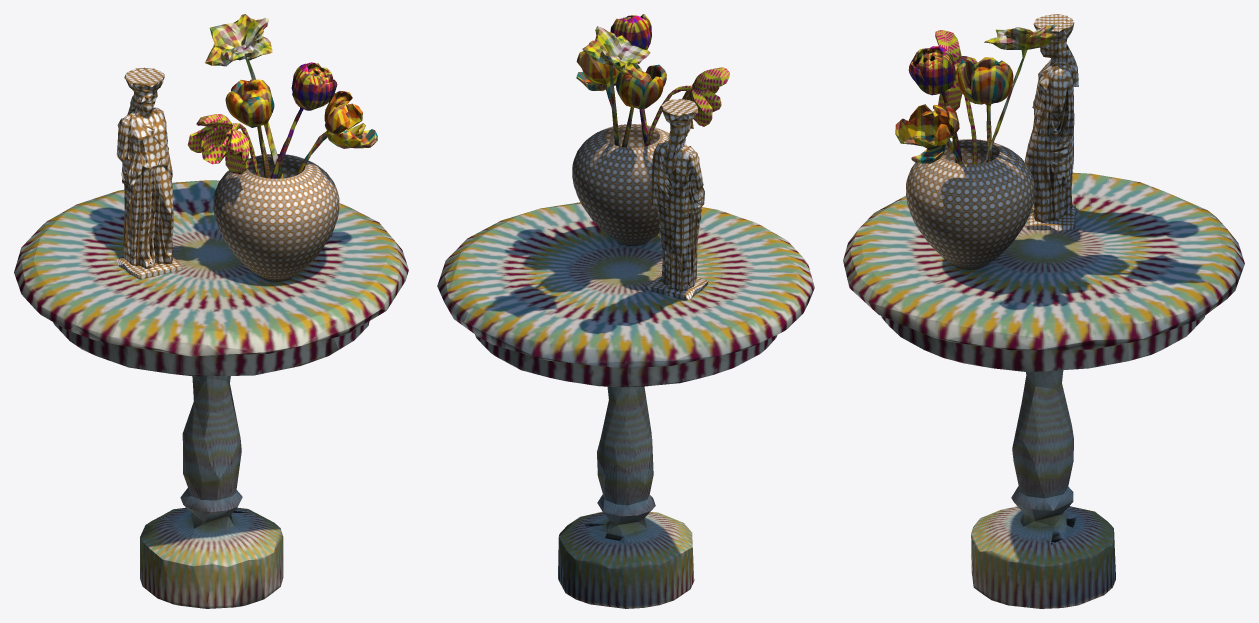
Rendered from Niio2StillLife.glb.
The picture shows the model from 3 angles, left to right: view 1: azimuth 30°, elevation 25°; view 2: azimuth 150°, elevation 25°; view 3: azimuth 270°, elevation 25°; orthographic projection. The views are drawn at different scales.
Visible parts, largest first — view 1: Niio2_roundTable_cleaned:mmGroup0, pSphere2, SIngleCaryatid_timeChange2, Niio2_Daff_Cleaned:mmGroup0, PolkDotFlower_cleaned:mmGroup0, pladTulip_cleaned:mmGroup0, Niio2_ShortTulip_cleaned2:mmGroup0, Niio2_tallPlaidTulip_Cleaned:mmGroup0; view 2: Niio2_roundTable_cleaned:mmGroup0, pSphere2, SIngleCaryatid_timeChange2, Niio2_Daff_Cleaned:mmGroup0, PolkDotFlower_cleaned:mmGroup0, Niio2_ShortTulip_cleaned2:mmGroup0, Niio2_tallPlaidTulip_Cleaned:mmGroup0, pladTulip_cleaned:mmGroup0; view 3: Niio2_roundTable_cleaned:mmGroup0, pSphere2, SIngleCaryatid_timeChange2, pladTulip_cleaned:mmGroup0, Niio2_ShortTulip_cleaned2:mmGroup0, Niio2_tallPlaidTulip_Cleaned:mmGroup0, Niio2_Daff_Cleaned:mmGroup0, PolkDotFlower_cleaned:mmGroup0.
Part boxes in pixels (<box>): Niio2_roundTable_cleaned:mmGroup0: <box>14,180,408,608</box>; pSphere2: <box>213,154,339,280</box>; SIngleCaryatid_timeChange2: <box>116,67,182,279</box>; Niio2_Daff_Cleaned:mmGroup0: <box>205,14,283,178</box>; PolkDotFlower_cleaned:mmGroup0: <box>187,114,259,176</box>; pladTulip_cleaned:mmGroup0: <box>296,91,377,175</box>; Niio2_ShortTulip_cleaned2:mmGroup0: <box>225,79,274,178</box>; Niio2_tallPlaidTulip_Cleaned:mmGroup0: <box>270,62,337,178</box>; Niio2_roundTable_cleaned:mmGroup0: <box>437,202,814,608</box>; pSphere2: <box>572,124,669,245</box>; SIngleCaryatid_timeChange2: <box>645,99,708,300</box>; Niio2_Daff_Cleaned:mmGroup0: <box>582,26,650,146</box>; PolkDotFlower_cleaned:mmGroup0: <box>644,67,729,146</box>; Niio2_ShortTulip_cleaned2:mmGroup0: <box>616,64,666,147</box>; Niio2_tallPlaidTulip_Cleaned:mmGroup0: <box>610,14,651,145</box>; pladTulip_cleaned:mmGroup0: <box>576,51,619,145</box>; Niio2_roundTable_cleaned:mmGroup0: <box>843,172,1244,608</box>; pSphere2: <box>906,139,1034,268</box>; SIngleCaryatid_timeChange2: <box>1024,14,1078,230</box>; pladTulip_cleaned:mmGroup0: <box>895,104,962,164</box>; Niio2_ShortTulip_cleaned2:mmGroup0: <box>956,57,1013,161</box>; Niio2_tallPlaidTulip_Cleaned:mmGroup0: <box>908,46,962,163</box>; Niio2_Daff_Cleaned:mmGroup0: <box>983,24,1057,162</box>; PolkDotFlower_cleaned:mmGroup0: <box>935,30,977,164</box>.
Size of what is drawn, in the model's own units: 0.3295 by 0.5202 by 0.3301.
Materials: 9 (8 with a texture image).
